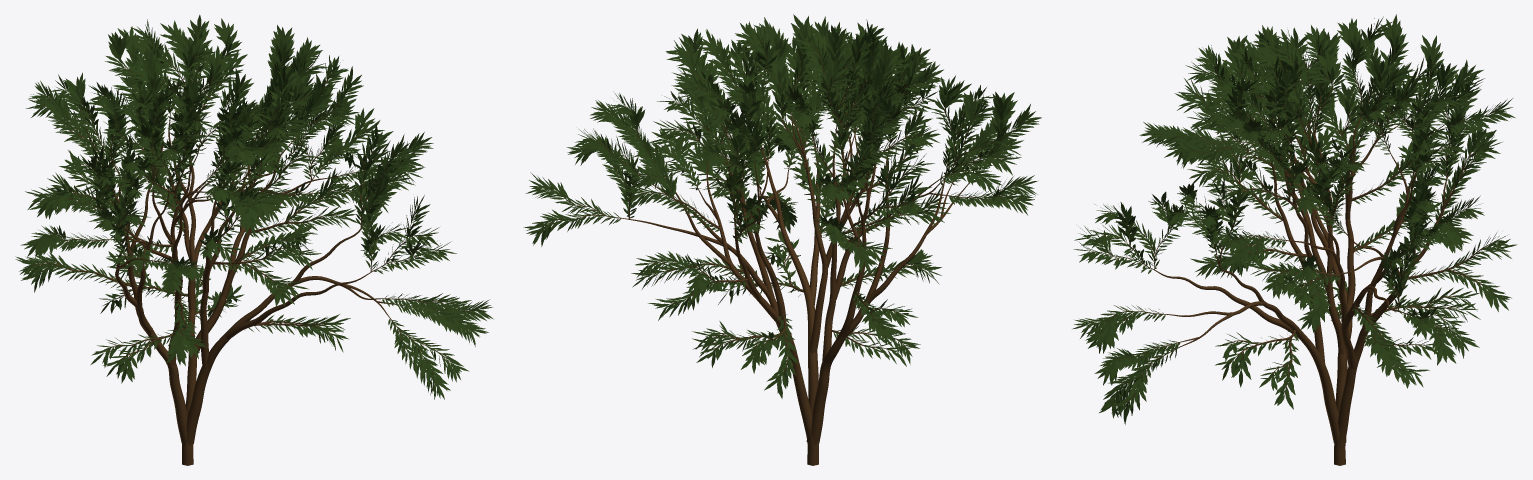
File: kust_generator.fbx
The picture shows the model from 3 angles, left to right: view 1: azimuth 30°, elevation 25°; view 2: azimuth 150°, elevation 25°; view 3: azimuth 270°, elevation 25°; orthographic projection.
Parts seen in each view (by area): view 1: leaves.002, tree.002; view 2: leaves.002, tree.002; view 3: leaves.002, tree.002.
Boxes of the visible parts, bbox=[...] form: leaves.002: bbox=[15, 14, 493, 399]; tree.002: bbox=[33, 35, 468, 465]; leaves.002: bbox=[523, 14, 1041, 398]; tree.002: bbox=[544, 40, 1021, 465]; leaves.002: bbox=[1072, 14, 1517, 424]; tree.002: bbox=[1089, 43, 1498, 465].
Bounding box in the file's own units: 429 × 391 × 380.
